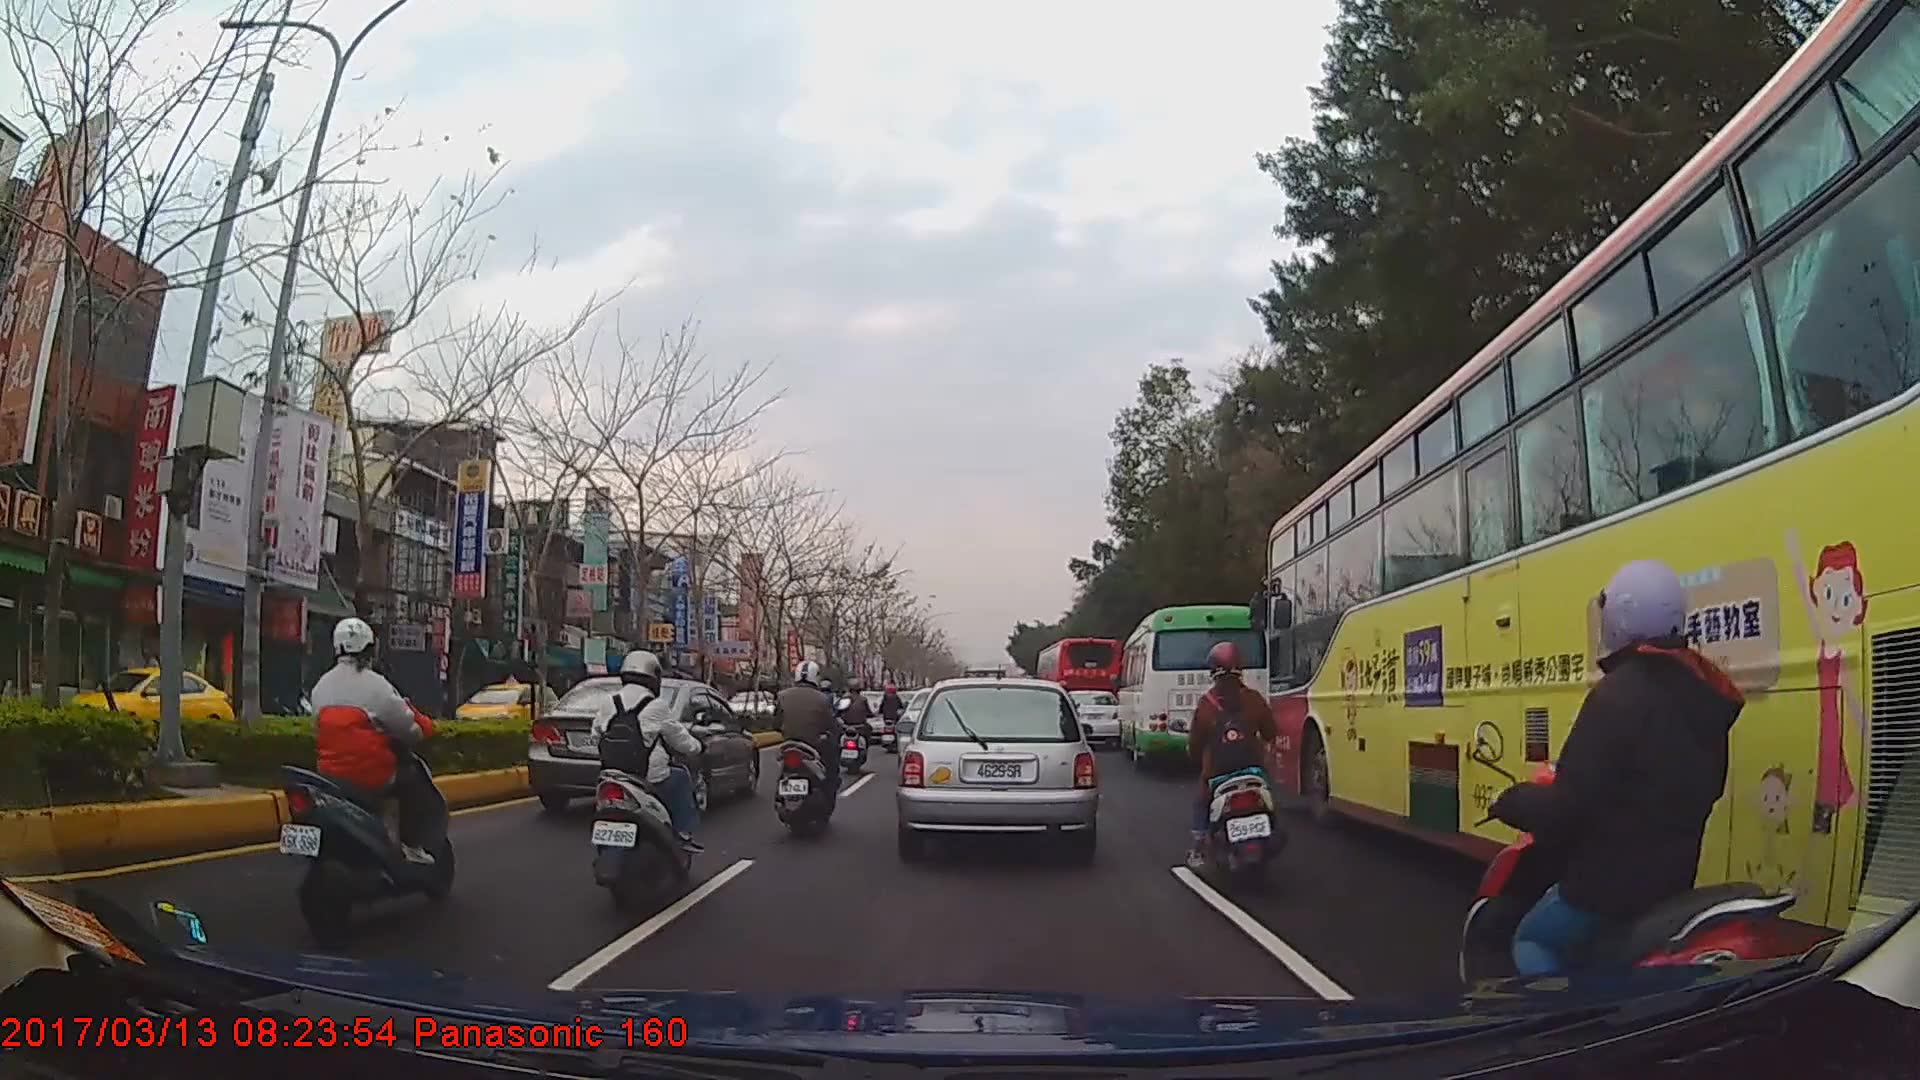rider: (1467, 561, 1823, 1038), (280, 613, 458, 936), (589, 645, 702, 921), (1176, 639, 1281, 888), (763, 659, 843, 839), (838, 678, 877, 773), (880, 682, 905, 754)
vehicle: (1263, 0, 1920, 967), (899, 673, 1097, 855), (523, 673, 759, 815), (1115, 604, 1266, 772), (52, 659, 236, 746), (1035, 634, 1120, 739), (449, 671, 565, 740), (1064, 689, 1124, 744)
